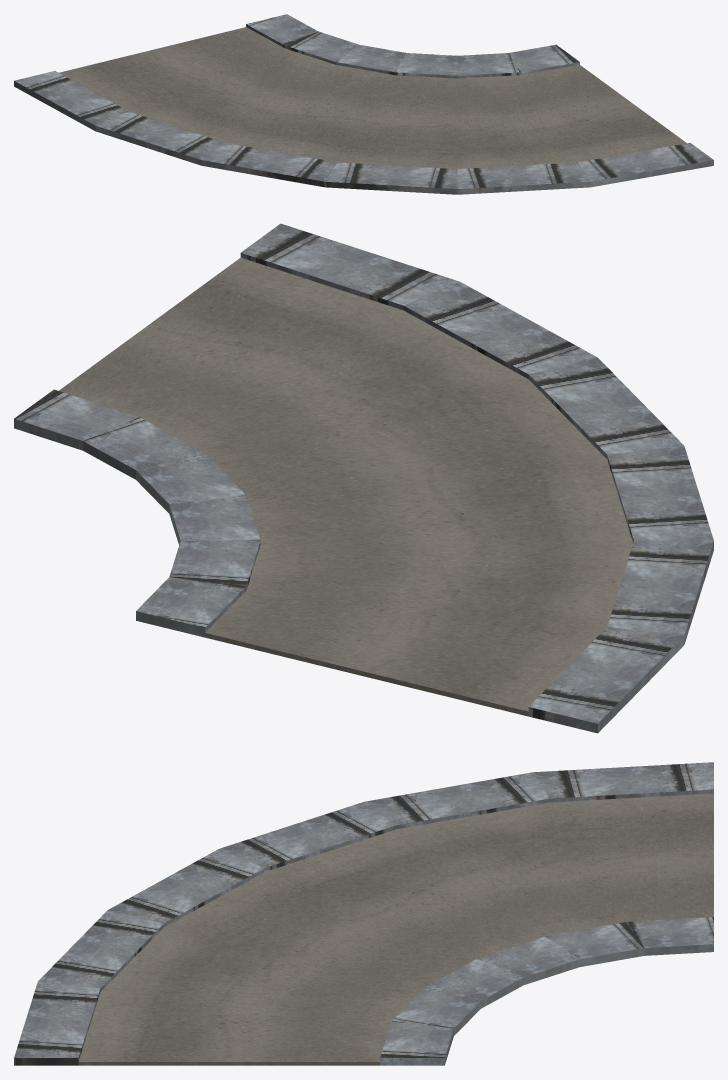
Rendered from Urban_Road3LongCorner_Model.fbx.
3 renders of one model, top to bottom at view 1: azimuth 30°, elevation 25°; view 2: azimuth 150°, elevation 25°; view 3: azimuth 270°, elevation 25°, orthographic. The views are drawn at different scales.
Parts seen in each view (by area): view 1: Urban_Road3LongCorner_Mesh; view 2: Urban_Road3LongCorner_Mesh; view 3: Urban_Road3LongCorner_Mesh.
Part boxes in pixels (x1,y1,x2,y2): Urban_Road3LongCorner_Mesh: (14,14,713,194); Urban_Road3LongCorner_Mesh: (14,223,713,733); Urban_Road3LongCorner_Mesh: (14,762,713,1065).
Size of the model in its own units: 26 by 0.32 by 26.
